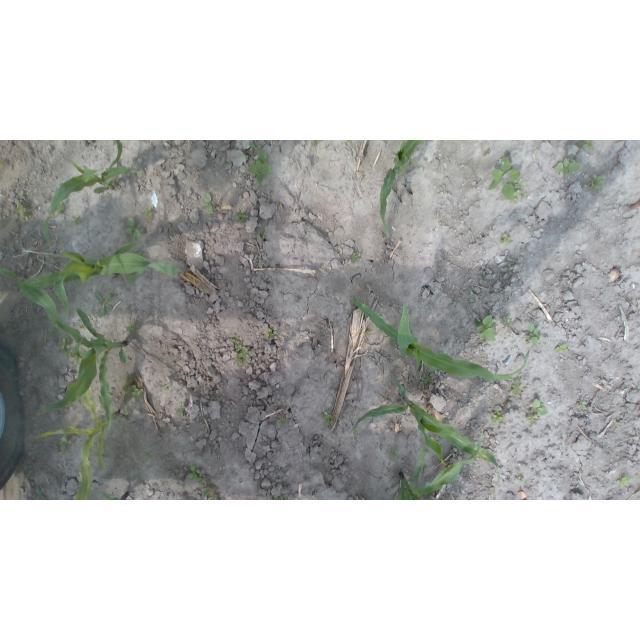Maize: (2, 268, 129, 428), (354, 381, 500, 488), (351, 294, 529, 379), (24, 252, 183, 317), (44, 140, 141, 246), (33, 385, 107, 500), (394, 430, 482, 500), (380, 141, 424, 228), (100, 492, 130, 500), (34, 486, 42, 499)
Weeds: (489, 156, 524, 202), (248, 155, 271, 183), (94, 290, 115, 318), (475, 315, 496, 342), (554, 159, 581, 178), (124, 217, 141, 238), (526, 323, 541, 346), (234, 337, 247, 363), (320, 410, 335, 426), (531, 401, 547, 415), (57, 338, 71, 352), (589, 177, 603, 190), (249, 141, 262, 155), (61, 437, 71, 455), (188, 466, 201, 479), (204, 193, 212, 214), (17, 204, 30, 216), (619, 474, 630, 488), (203, 489, 218, 499), (122, 381, 132, 395), (509, 380, 520, 392), (128, 320, 141, 330), (491, 412, 502, 423), (132, 384, 142, 396), (72, 214, 85, 222), (501, 233, 511, 243), (176, 406, 187, 415), (422, 376, 433, 385), (0, 157, 8, 169), (127, 169, 137, 178), (162, 382, 172, 391), (141, 207, 151, 216), (236, 211, 245, 220), (556, 344, 567, 351), (266, 332, 277, 339), (146, 449, 154, 458), (586, 140, 595, 148), (578, 402, 588, 409), (276, 494, 287, 500), (57, 203, 65, 211), (503, 316, 510, 325), (353, 252, 360, 261), (280, 419, 288, 426), (311, 140, 321, 145), (200, 478, 207, 485), (391, 450, 397, 456), (528, 417, 535, 422), (481, 273, 486, 280), (517, 474, 523, 479), (348, 140, 353, 145)
